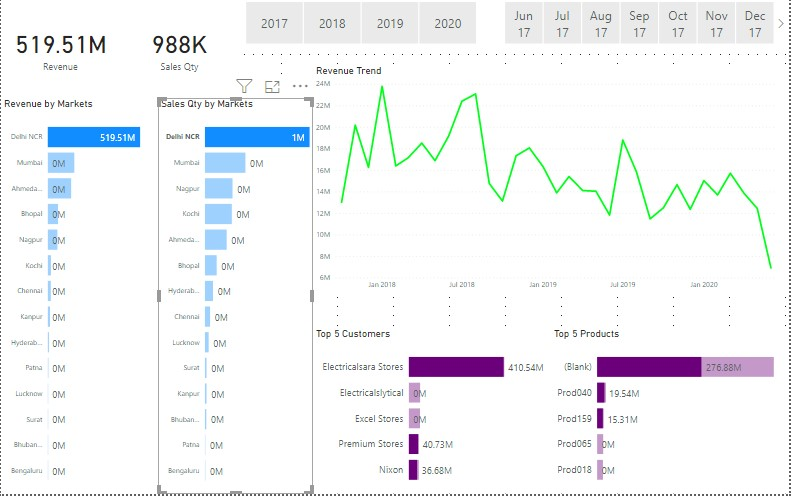

This screenshot's page, from the dashboard's own definition file:
{"tool":"powerbi","page":{"name":"Page 1","canvas":[1350,850],"ordinal":0},"visuals":[{"type":"card","fields":{"Values":["BaseMeasure.Revenue"]},"box":[0,0,204.4,170.7],"z":0},{"type":"card","fields":{"Values":["BaseMeasure.Sales Qty"]},"box":[204.4,0,204.4,170.7],"z":1},{"type":"barChart","title":"Revenue by Markets","fields":{"Y":["BaseMeasure.Revenue"],"Category":["sales markets.markets_name"]},"box":[0,170.7,268.4,679.1],"z":2},{"type":"barChart","title":"Sales Qty by Markets","fields":{"Y":["BaseMeasure.Sales Qty"],"Category":["sales markets.markets_name"]},"box":[268.4,170.7,266.7,679.1],"z":3},{"type":"slicer","fields":{"Values":["sales date.year"]},"box":[394.7,0,444.4,85.3],"z":4},{"type":"slicer","fields":{"Values":["sales date.cy_date"]},"box":[839.1,0,510.2,85.3],"z":5},{"type":"barChart","title":"Top 5 Customers","fields":{"Y":["BaseMeasure.Revenue"],"Category":["sales customers.custmer_name"]},"box":[535.1,565.3,407.1,284.4],"z":6},{"type":"barChart","title":"Top 5 Products","fields":{"Y":["BaseMeasure.Revenue"],"Category":["sales products.product_code"]},"box":[942.2,565.3,407.1,284.4],"z":7},{"type":"lineChart","title":"Revenue Trend","fields":{"Y":["BaseMeasure.Revenue"],"Category":["sales date.cy_date"]},"box":[535.1,115.6,814.2,394.7],"z":8}]}

Visuals, with their boxes in screenshot pixels (x1, y1, x2, y2), scaled from the page's 1350x850 canvas onto the 792x497 screenshot:
card - BaseMeasure.Revenue: 0/0/120/100
card - BaseMeasure.Sales Qty: 120/0/240/100
"Revenue by Markets" barChart: 0/100/157/496
"Sales Qty by Markets" barChart: 157/100/314/496
slicer - sales date.year: 232/0/492/50
slicer - sales date.cy_date: 492/0/791/50
"Top 5 Customers" barChart: 314/331/553/496
"Top 5 Products" barChart: 553/331/791/496
"Revenue Trend" lineChart: 314/68/791/298
